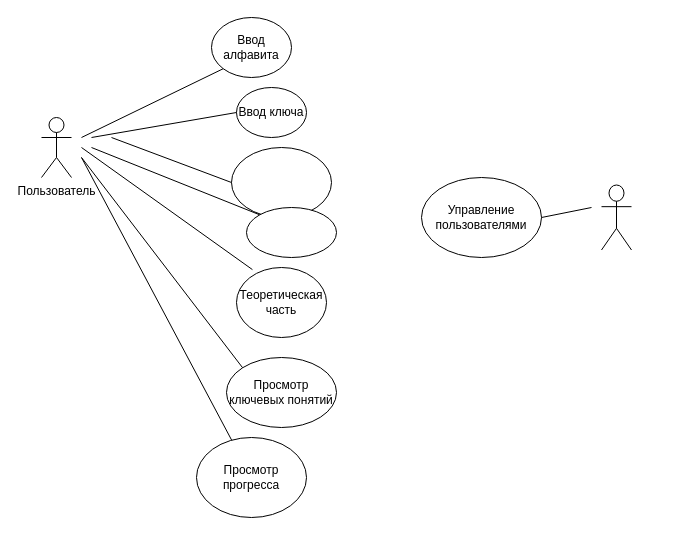
Image size: 677x535. Some labels were removed from this diagram. Each missing label, with the box of its shape:
Администритор: (600, 184, 632, 250)
Просмотр логов: (246, 206, 336, 258)
Шифрование, дешифрование: (230, 146, 332, 218)
